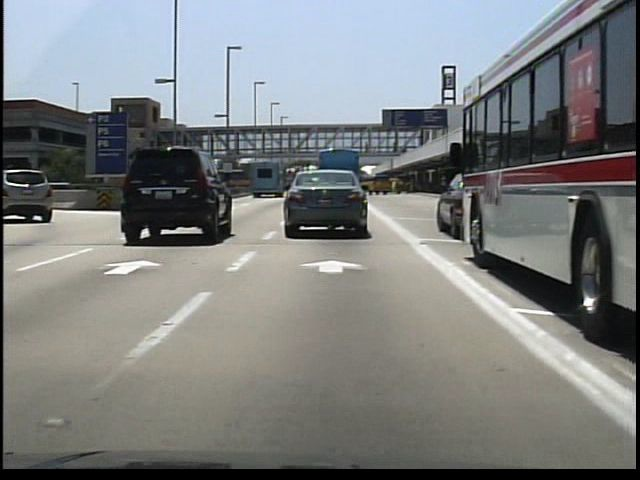person: (388, 177, 402, 199), (389, 136, 402, 158), (359, 136, 373, 156)
